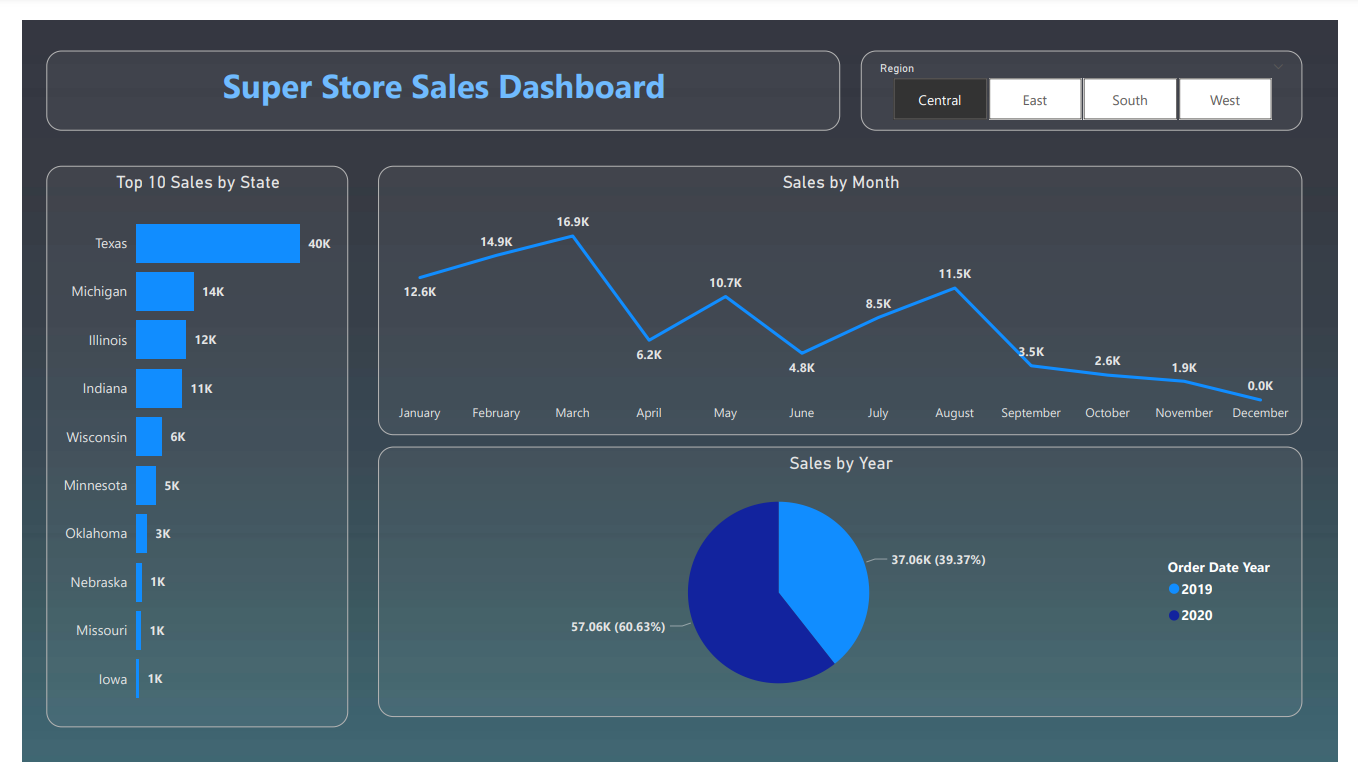

This screenshot's page, from the dashboard's own definition file:
{"tool":"powerbi","page":{"name":"Sales Dashboard 2","canvas":[1280,720],"ordinal":1},"visuals":[{"type":"clusteredBarChart","title":"Top 10 Sales by State","fields":{"Category":["SuperStore_Sales_Dataset (2).State"],"Y":["Sum(SuperStore_Sales_Dataset (2).Sales)"]},"box":[23.3,141.3,293.7,546.1],"z":0},{"type":"lineChart","title":"Sales by Month","fields":{"Y":["Sum(SuperStore_Sales_Dataset (2).Sales)"],"Category":["SuperStore_Sales_Dataset (2).Order Date.Variation.Date Hierarchy.Month"]},"box":[345.8,141.3,900.2,262.1],"z":1000},{"type":"pieChart","title":"Sales by Year","fields":{"Y":["Sum(SuperStore_Sales_Dataset (2).Sales)"],"Category":["SuperStore_Sales_Dataset (2).Order Date.Variation.Date Hierarchy.Year"]},"box":[345.8,414.4,900.2,262.1],"z":2000},{"type":"textbox","box":[23.3,28.8,772.6,78.2],"z":3000},{"type":"slicer","fields":{"Values":["SuperStore_Sales_Dataset (2).Region"]},"box":[816.5,28.8,429.5,78.2],"z":4000}]}

Visuals, with their boxes in screenshot pixels (x1, y1, x2, y2), scaled from the page's 1280x720 canvas onto the 1358x782 screenshot:
"Top 10 Sales by State" clusteredBarChart: bbox(25, 153, 336, 747)
"Sales by Month" lineChart: bbox(367, 153, 1322, 438)
"Sales by Year" pieChart: bbox(367, 450, 1322, 735)
textbox: bbox(25, 31, 844, 116)
slicer - SuperStore_Sales_Dataset (2).Region: bbox(866, 31, 1322, 116)
